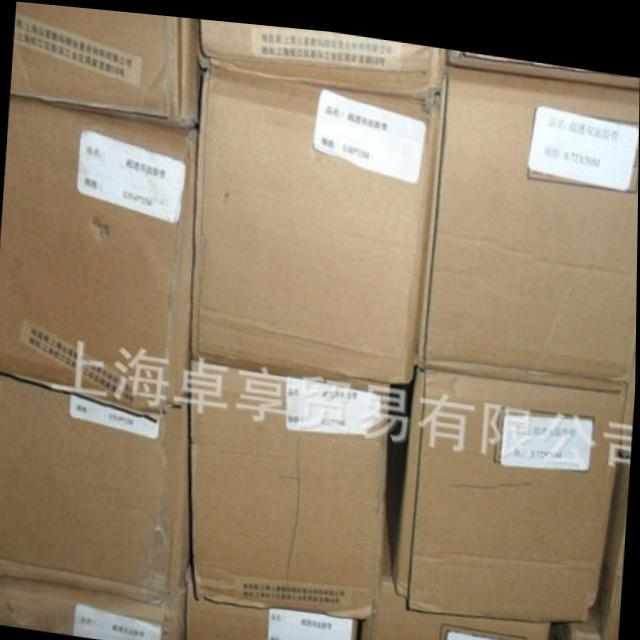box: (194, 60, 445, 383), (427, 58, 640, 378), (0, 98, 196, 409), (385, 360, 627, 609), (192, 357, 388, 614), (0, 370, 193, 603), (362, 493, 553, 640), (10, 1, 199, 126), (200, 15, 450, 90), (0, 576, 188, 640), (190, 593, 359, 640), (448, 41, 640, 77), (597, 447, 632, 635), (551, 604, 617, 640), (622, 335, 637, 446)
